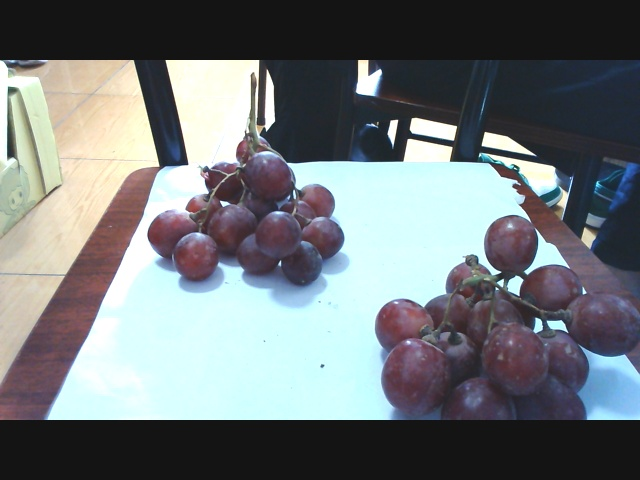grape: (364, 212, 630, 416), (133, 138, 345, 297)
